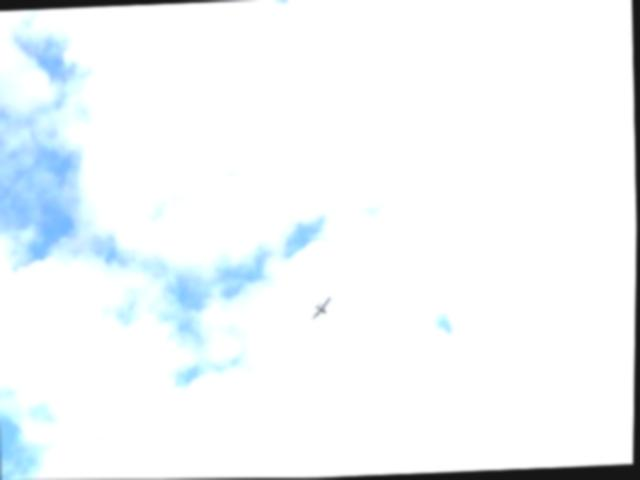uav: (308, 294, 335, 323)
